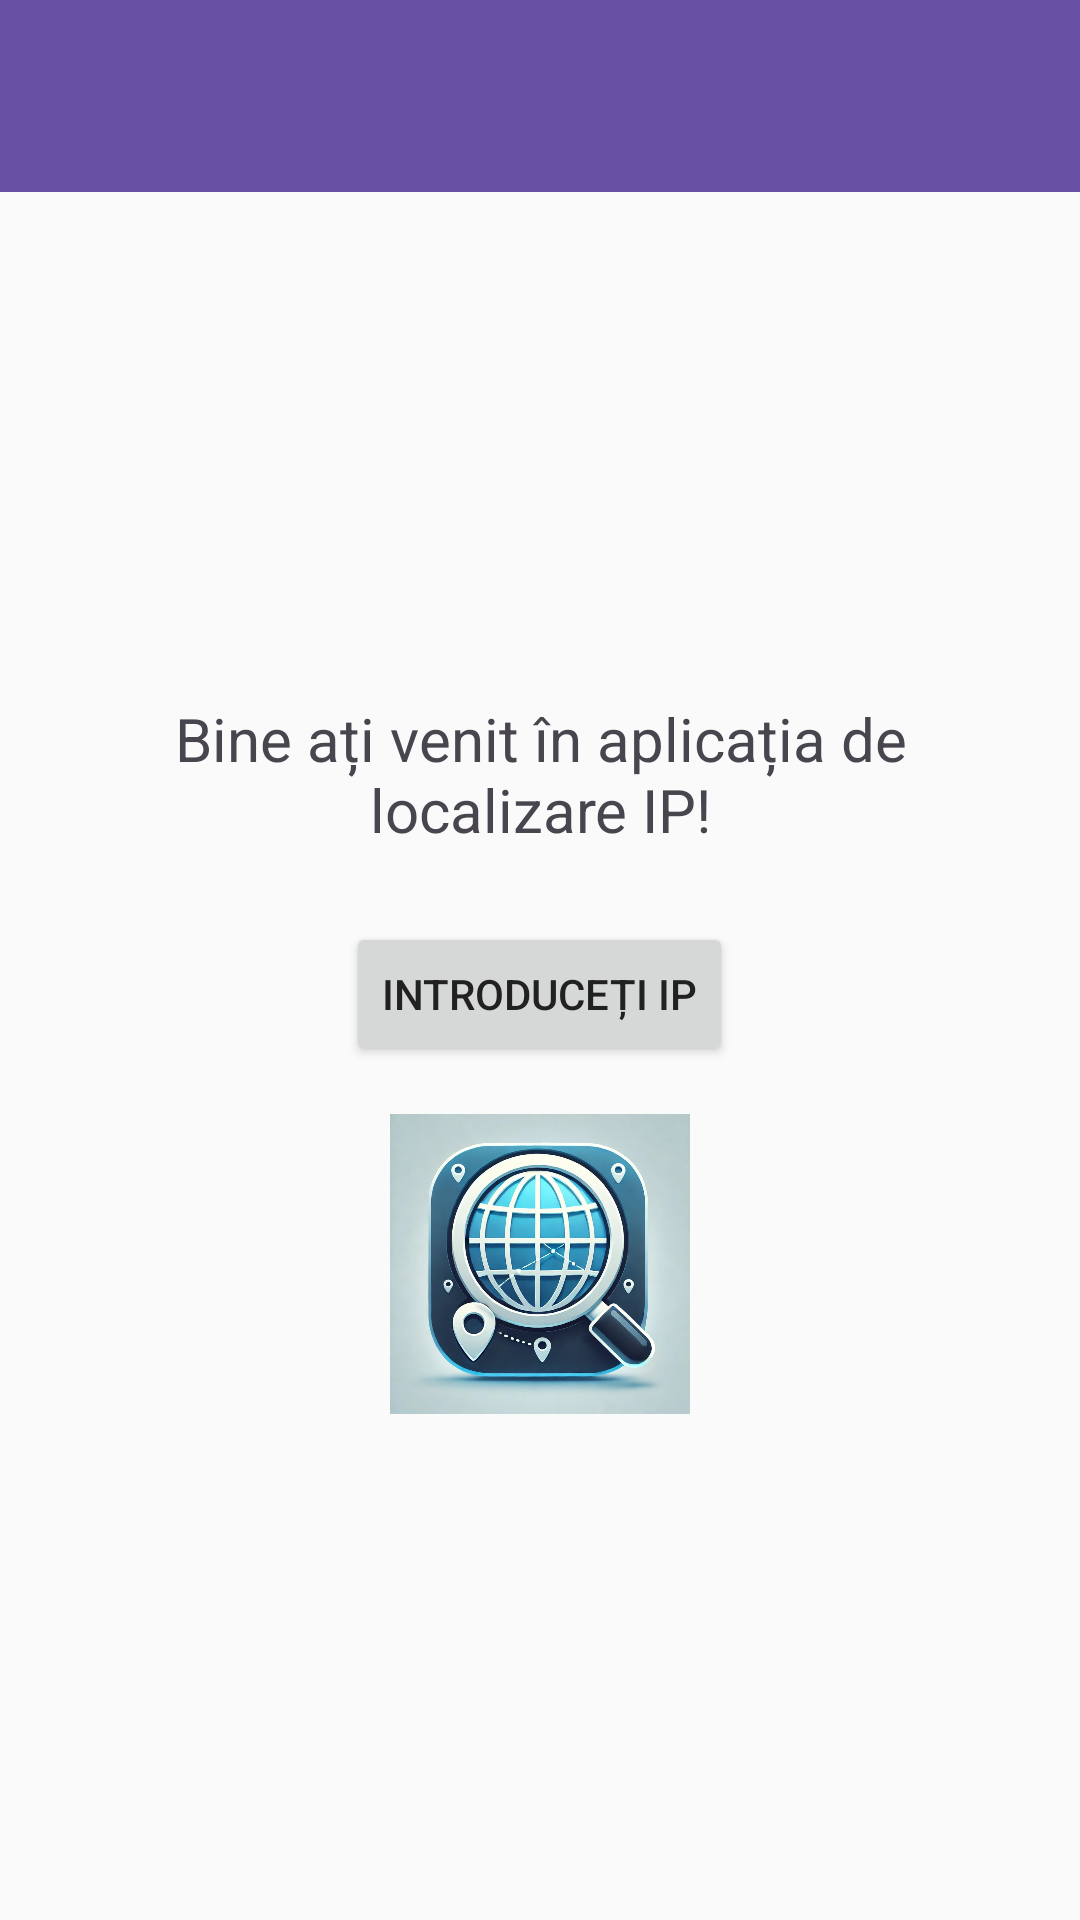

Icon click points for this 1080px x 1920px phone screenshot, format [x,y]:
Icoană aplicație: [540,1264]
